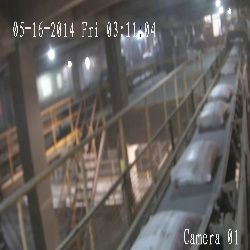cementbag: (130, 211, 204, 250), (170, 138, 220, 183), (196, 100, 229, 127), (207, 83, 233, 100)
